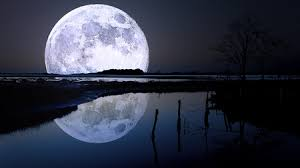moon: (45, 4, 149, 76)
